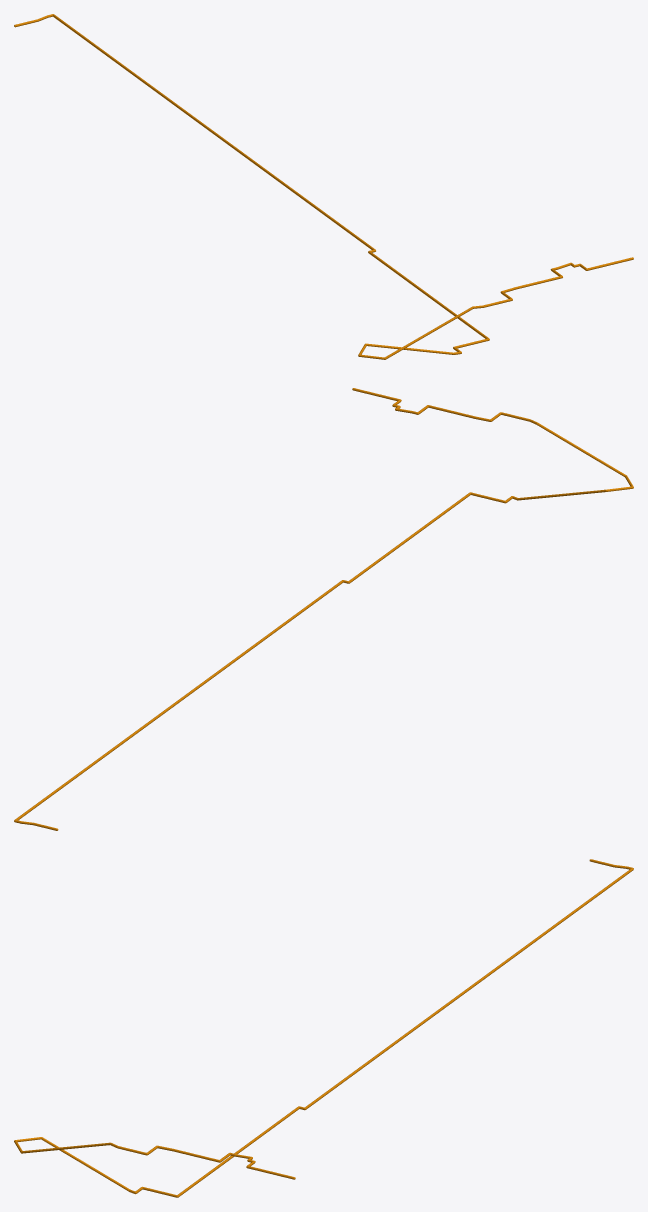
The picture shows the model from 3 angles, top to bottom: view 1: azimuth 30°, elevation 25°; view 2: azimuth 150°, elevation 25°; view 3: azimuth 330°, elevation 25°; orthographic projection.
Size of the model in its own units: 2402 by 520 by 7070.
